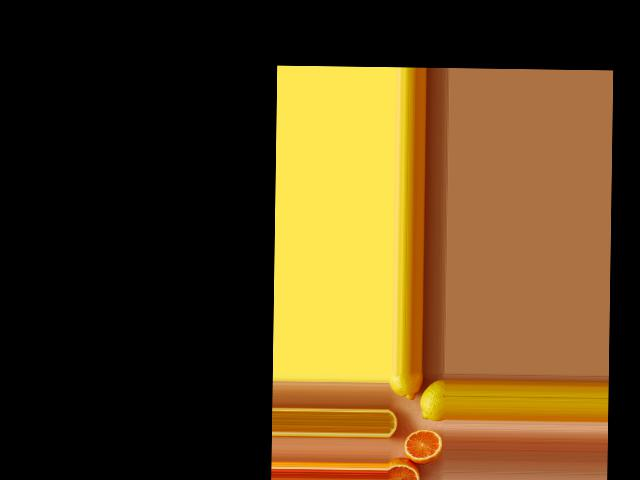lemon: (390, 372, 424, 403)
